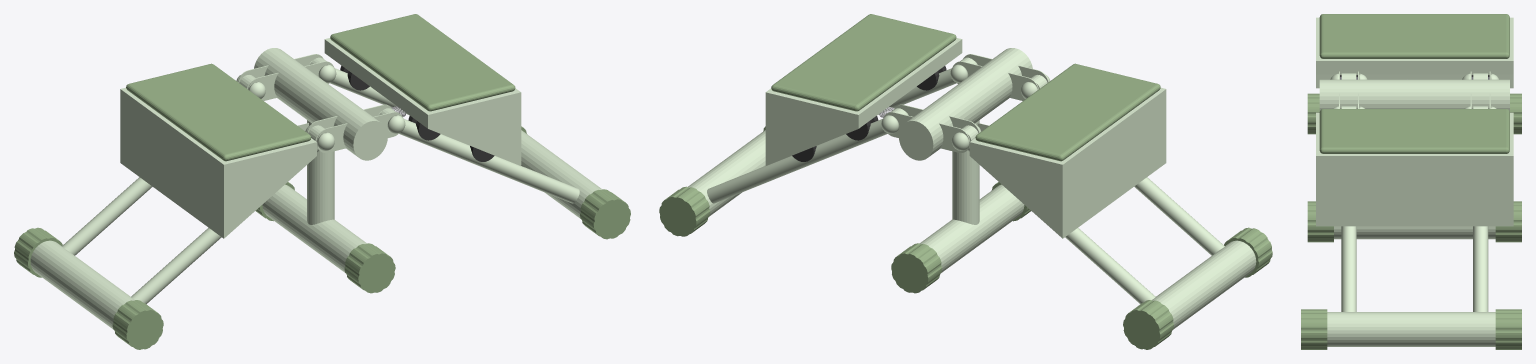
The model's file is product.glb.
The picture shows the model from 3 angles, left to right: view 1: azimuth 30°, elevation 25°; view 2: azimuth 150°, elevation 25°; view 3: azimuth 270°, elevation 25°; orthographic projection. The views are drawn at different scales.
Parts seen in each view (by area): view 1: PadL_Base, PadR_Cushion, PadL_Cushion, PadR_Base, Pivot, Foot_LeftBar, CenterPillar_FootBar, Leg_RB, Foot_RightBar, CenterPillar, FootCap_L_F, FootCap_R_F (+5 smaller); view 2: PadL_Base, PadL_Cushion, PadR_Cushion, PadR_Base, Pivot, Foot_LeftBar, CenterPillar_FootBar, Leg_RF, Foot_RightBar, CenterPillar, FootCap_R_B, CenterPillar_Cap_B (+5 smaller); view 3: PadR_Base, PadR_Cushion, PadL_Cushion, Foot_RightBar, Pivot, PadL_Base, CenterPillar_FootBar, Leg_RB, Leg_RF, FootCap_R_F, FootCap_R_B, CenterPillar_Cap_F (+3 smaller).
Part boxes in pixels (left/top/right/bottom): PadL_Base: left=120, top=87, right=316, bottom=238; PadR_Cushion: left=330, top=14, right=515, bottom=111; PadL_Cushion: left=126, top=63, right=311, bottom=161; PadR_Base: left=324, top=38, right=521, bottom=165; Pivot: left=254, top=48, right=387, bottom=160; Foot_LeftBar: left=30, top=240, right=134, bottom=328; CenterPillar_FootBar: left=262, top=184, right=366, bottom=272; Leg_RB: left=399, top=119, right=579, bottom=203; Foot_RightBar: left=521, top=130, right=602, bottom=218; CenterPillar: left=307, top=120, right=334, bottom=224; FootCap_L_F: left=112, top=300, right=163, bottom=349; FootCap_R_F: left=580, top=189, right=630, bottom=239; PadL_Base: left=969, top=87, right=1166, bottom=238; PadL_Cushion: left=975, top=63, right=1160, bottom=161; PadR_Cushion: left=771, top=14, right=956, bottom=111; PadR_Base: left=765, top=38, right=962, bottom=165; Pivot: left=899, top=48, right=1032, bottom=160; Foot_LeftBar: left=1152, top=240, right=1256, bottom=329; CenterPillar_FootBar: left=919, top=184, right=1024, bottom=272; Leg_RF: left=707, top=119, right=887, bottom=203; Foot_RightBar: left=688, top=130, right=765, bottom=216; CenterPillar: left=952, top=120, right=979, bottom=224; FootCap_R_B: left=659, top=186, right=710, bottom=236; CenterPillar_Cap_B: left=891, top=243, right=942, bottom=293; PadR_Base: left=1316, top=112, right=1513, bottom=226; PadR_Cushion: left=1319, top=109, right=1509, bottom=153; PadL_Cushion: left=1319, top=14, right=1509, bottom=58; Foot_RightBar: left=1327, top=312, right=1495, bottom=346; Pivot: left=1319, top=79, right=1509, bottom=111; PadL_Base: left=1316, top=17, right=1513, bottom=88; CenterPillar_FootBar: left=1334, top=226, right=1495, bottom=239; Leg_RB: left=1341, top=226, right=1356, bottom=311; Leg_RF: left=1473, top=226, right=1488, bottom=311; FootCap_R_F: left=1301, top=309, right=1327, bottom=349; FootCap_R_B: left=1495, top=309, right=1521, bottom=349; CenterPillar_Cap_F: left=1307, top=201, right=1333, bottom=242.
Bounding box in the file's own units: 0.7538 × 0.2407 × 0.302.
